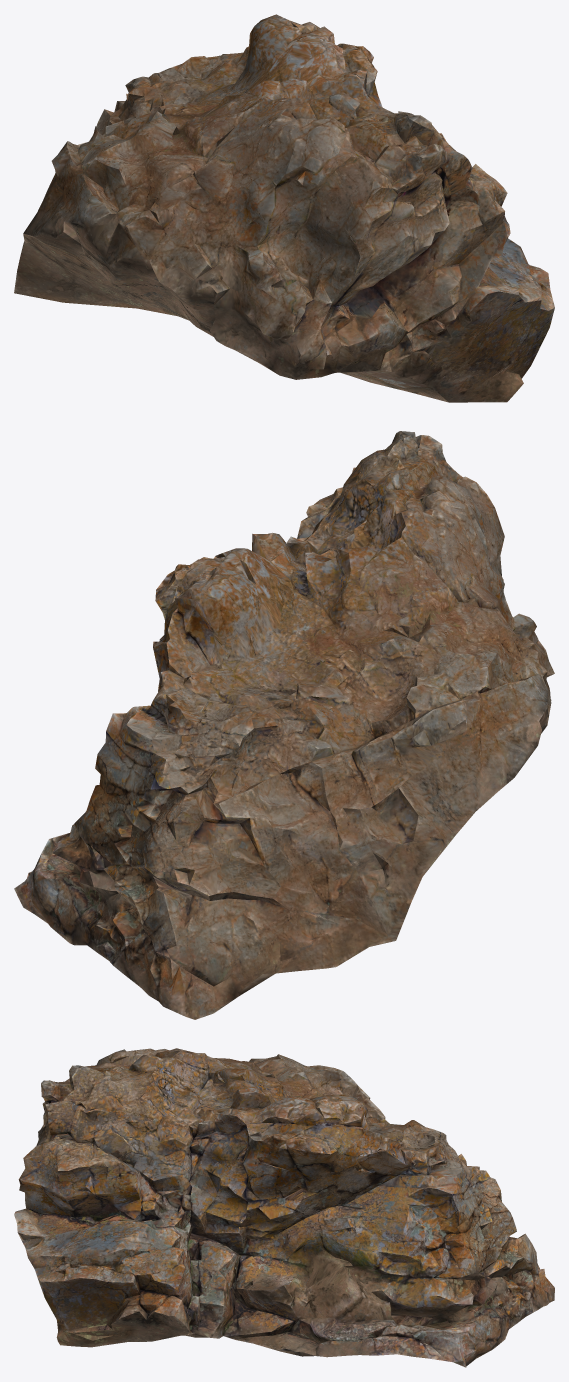
File: kaya.glb
3 views of the same model, one above another, from view 1: azimuth 30°, elevation 25°; view 2: azimuth 150°, elevation 25°; view 3: azimuth 270°, elevation 25° (orthographic). The views are drawn at different scales.
Visible parts, largest first — view 1: kaya_lib; view 2: kaya_lib; view 3: kaya_lib.
Part boxes in pixels (left/top/right/bottom): kaya_lib: left=14, top=14, right=554, bottom=402; kaya_lib: left=14, top=431, right=554, bottom=1019; kaya_lib: left=14, top=1048, right=554, bottom=1367.
Bounding box in the file's own units: 1.41 × 1.1 × 2.01.
1 material, 1 textured.
